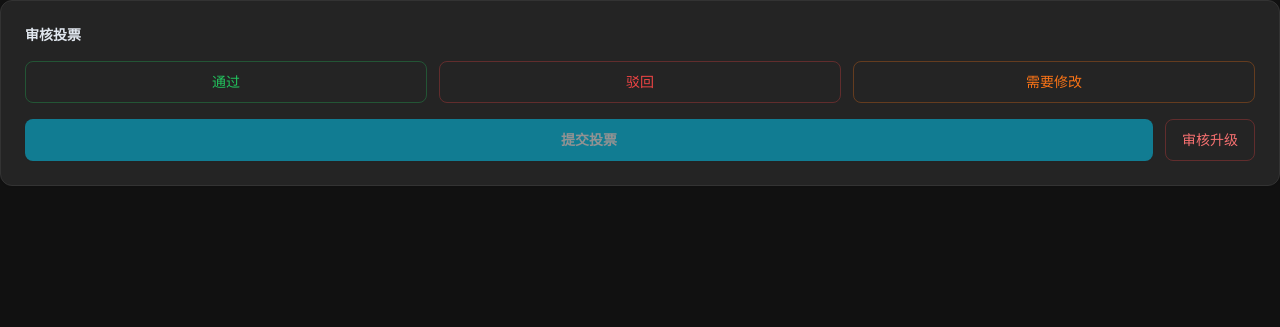
Scenario: VotePanel › 选择"需要修改"应显示理由输入框
Click the button "需要修改".
click(1054, 82)  # box left=853, top=61, right=1255, bottom=103
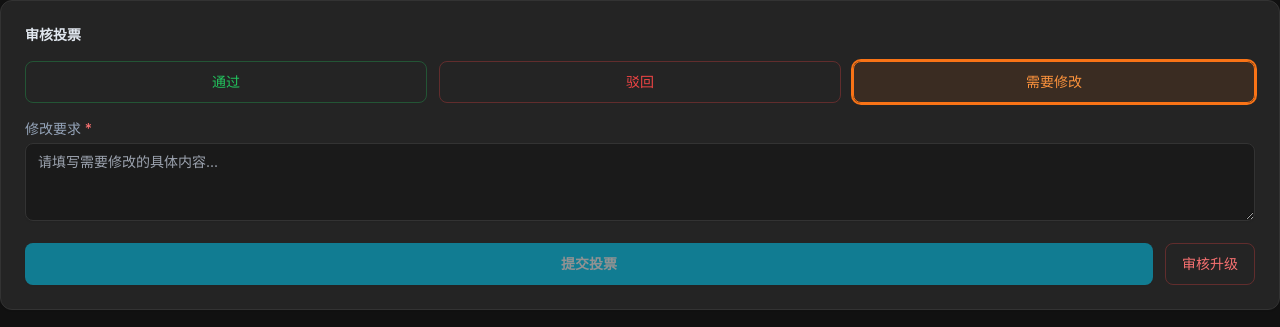
Now the text box labelled "修改要求 *" is shown, box left=25, top=143, right=1255, bottom=221
